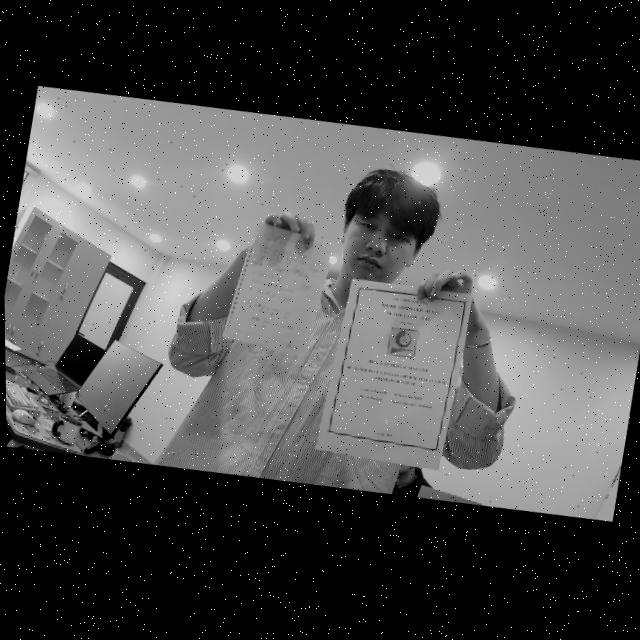document: (315, 278, 472, 470), (221, 221, 335, 356)
face: (338, 200, 428, 283)
